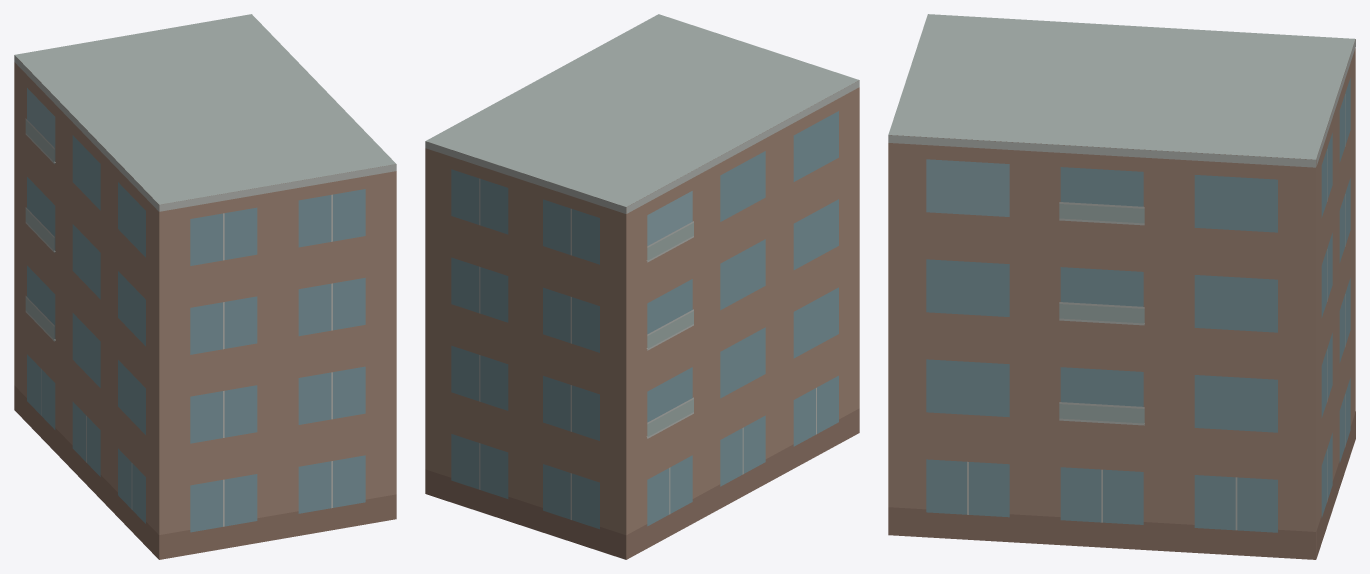
File: survey-upis-32640373.glb
The picture shows the model from 3 angles, left to right: view 1: azimuth 30°, elevation 25°; view 2: azimuth 150°, elevation 25°; view 3: azimuth 270°, elevation 25°; orthographic projection. The views are drawn at different scales.
Parts seen in each view (by area): view 1: survey-upis-32640373.tmp; view 2: survey-upis-32640373.tmp; view 3: survey-upis-32640373.tmp.
Boxes of the visible parts, bbox=[...] form: survey-upis-32640373.tmp: bbox=[14, 14, 396, 559]; survey-upis-32640373.tmp: bbox=[425, 14, 859, 559]; survey-upis-32640373.tmp: bbox=[888, 14, 1355, 559].
Size of the model in its own units: 9.53 by 12.2 by 12.92.
